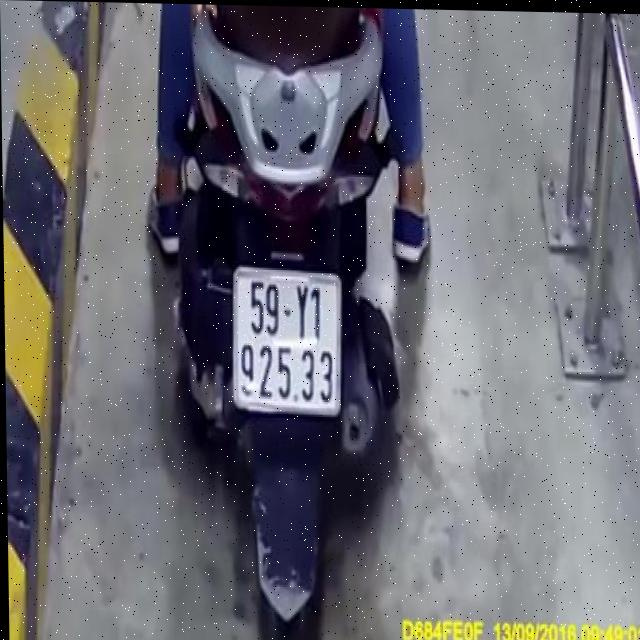motorcycle: (170, 4, 412, 640)
plate: (225, 260, 347, 417)
